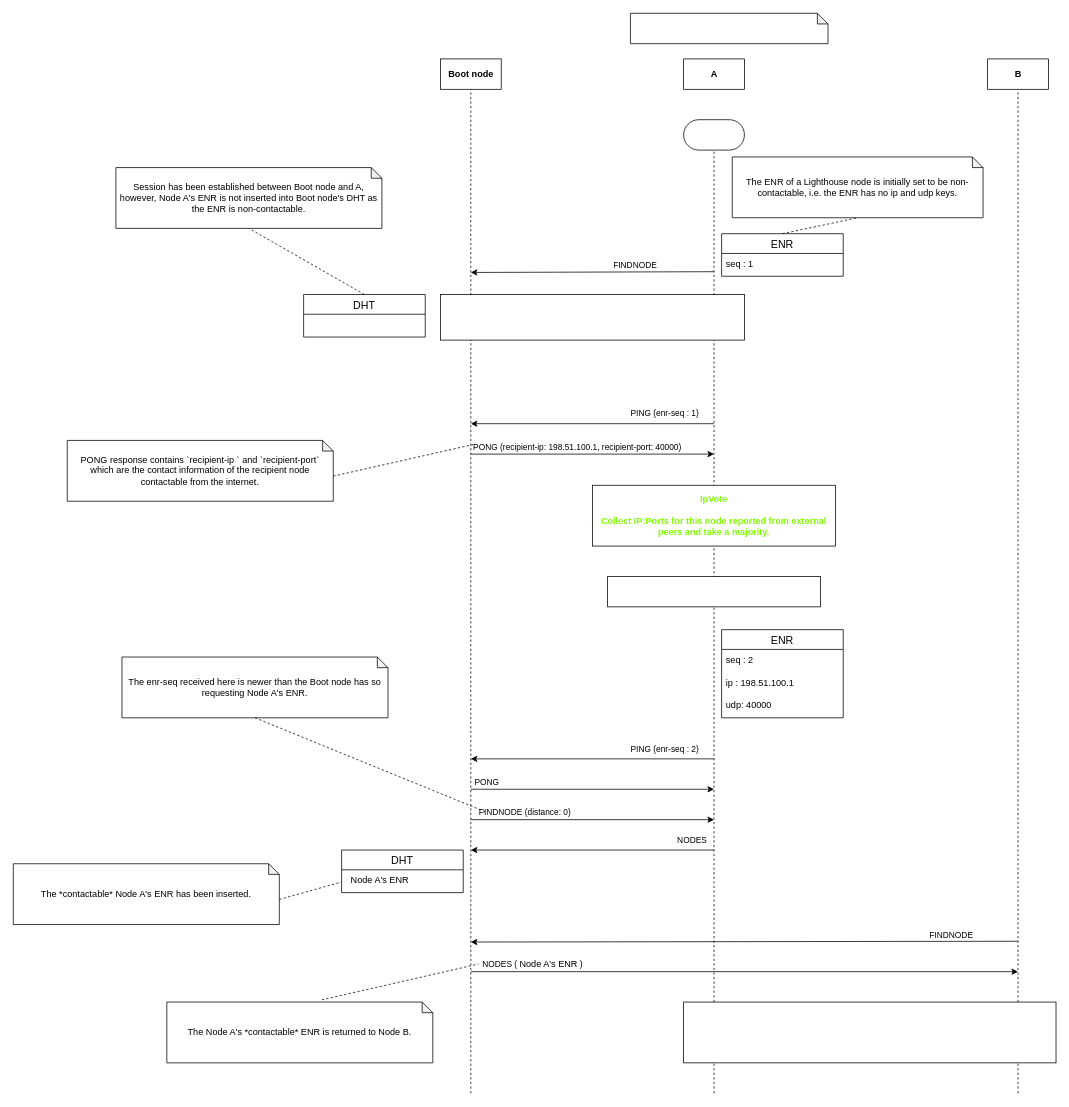
Some shapes in this 1069 by 1107 pixel diagram are drawn without their labels. The centre of each missing label's shape, as x and y in pixels:
"Node A is behind NAT." goes at pixel 729 28.
"Node B connects to Node A directly." goes at pixel 869 1032.
"Session established (The handshake sequence is omitted here)" goes at pixel 592 317.
"Start" goes at pixel 713 134.
"Update the ENR with the majority." goes at pixel 713 591.
